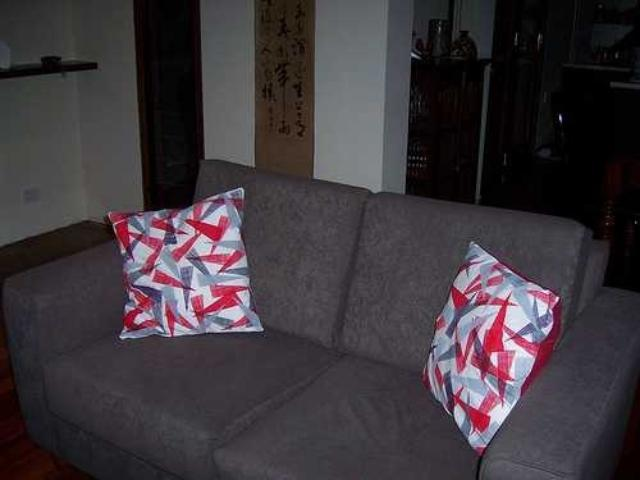pillow: (420, 239, 562, 456), (105, 185, 265, 338)
